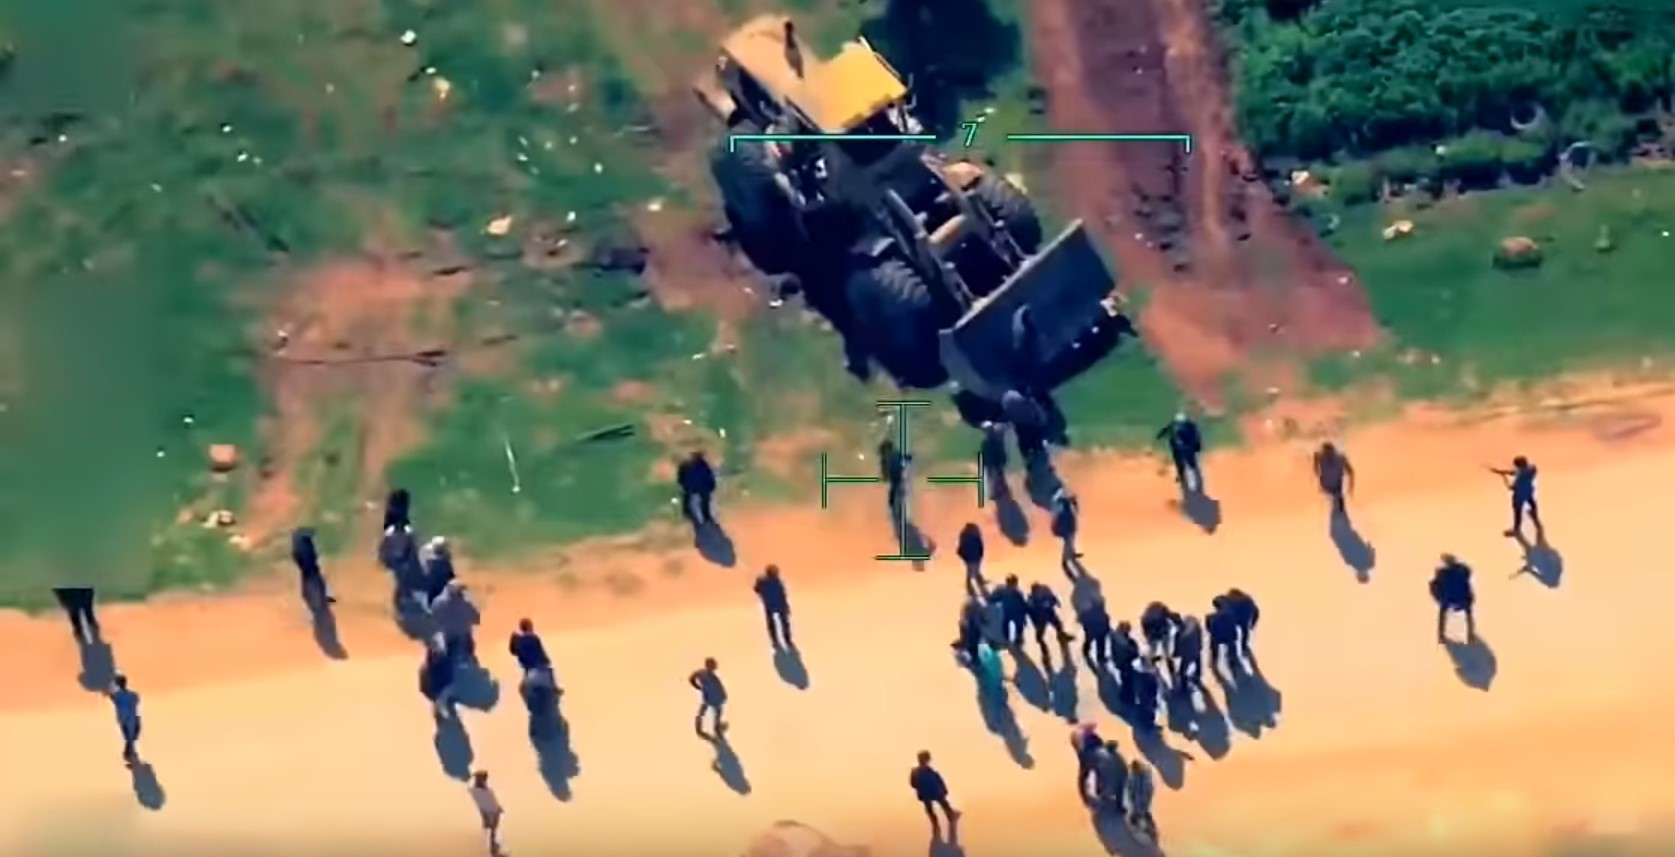araba: (698, 7, 1129, 410)
insan: (510, 612, 571, 710), (1426, 550, 1482, 653), (291, 515, 347, 609), (1496, 449, 1549, 548), (1211, 582, 1264, 680), (868, 434, 927, 523), (1307, 423, 1359, 521), (463, 764, 518, 852), (911, 742, 967, 826), (108, 668, 154, 766), (674, 446, 727, 524), (691, 647, 733, 742), (1050, 475, 1094, 567), (1164, 409, 1208, 494), (765, 574, 806, 664), (948, 522, 995, 588)
